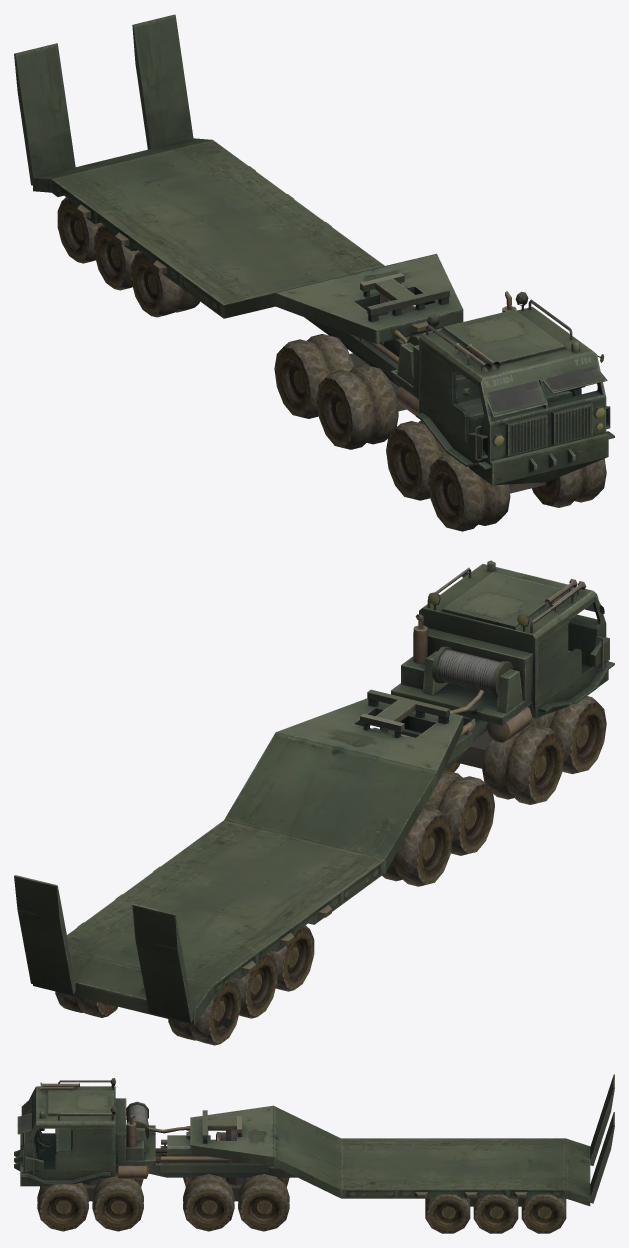
The model's file is truck.glb.
3 views of the same model, one above another, from view 1: azimuth 30°, elevation 25°; view 2: azimuth 150°, elevation 25°; view 3: azimuth 270°, elevation 25° (orthographic). The views are drawn at different scales.
Parts seen in each view (by area): view 1: VEHICLE_Army Truck_Army Truck 1_0; view 2: VEHICLE_Army Truck_Army Truck 1_0; view 3: VEHICLE_Army Truck_Army Truck 1_0.
Part boxes in pixels (x1=…): VEHICLE_Army Truck_Army Truck 1_0: x1=14, y1=14, x2=614, y2=531; VEHICLE_Army Truck_Army Truck 1_0: x1=14, y1=560, x2=614, y2=1045; VEHICLE_Army Truck_Army Truck 1_0: x1=14, y1=1074, x2=614, y2=1233.
Bounding box in the file's own units: 1.49 × 1.5 × 6.87.
1 material, 1 textured.
